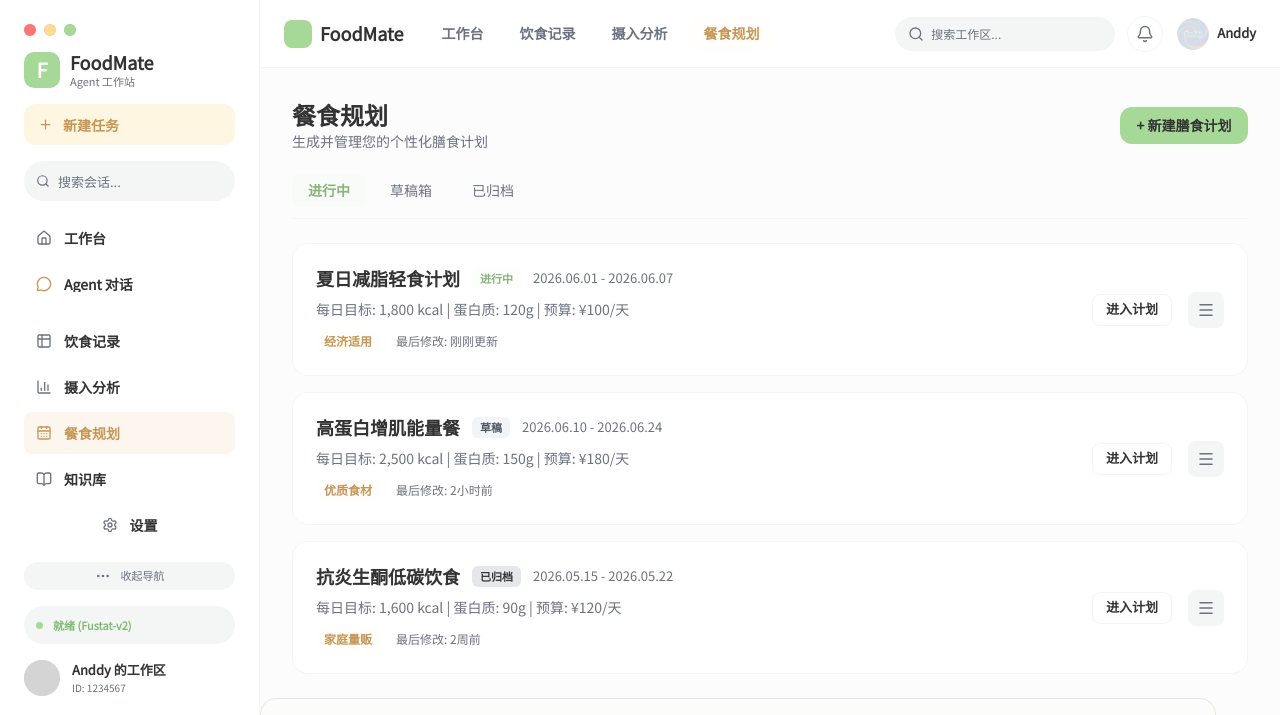
PlanningPage › keeps plan list filters and the wizard progression aligned
The image size is (1280, 715).
Expected: the heading "夏日减脂轻食计划" is shown, left=316, top=267, right=460, bottom=289
Expected: the heading "高蛋白增肌能量餐" is shown, left=316, top=416, right=460, bottom=438
Click the tab "草稿箱".
click(411, 190)  # box left=374, top=174, right=448, bottom=207
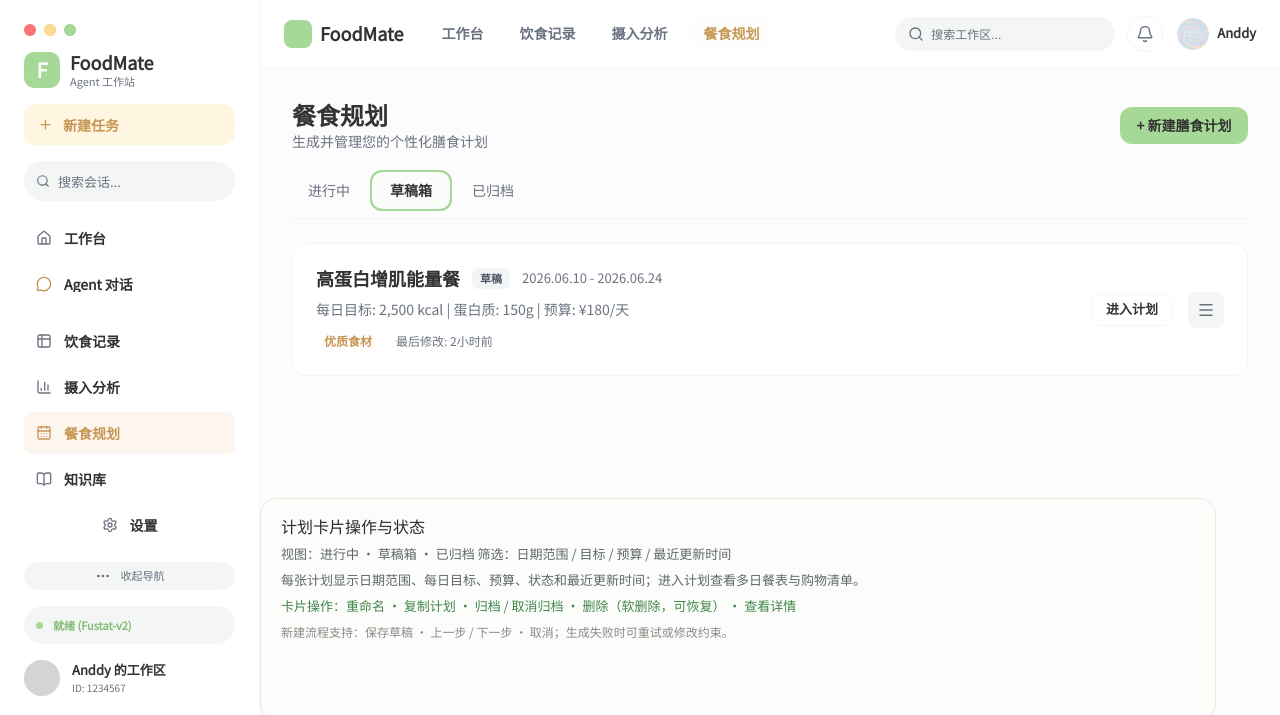
Expected: the heading "高蛋白增肌能量餐" is shown, left=316, top=267, right=460, bottom=289
Now the heading "夏日减脂轻食计划" is gone
Click the tab "进行中".
click(329, 190)  # box left=292, top=174, right=366, bottom=207
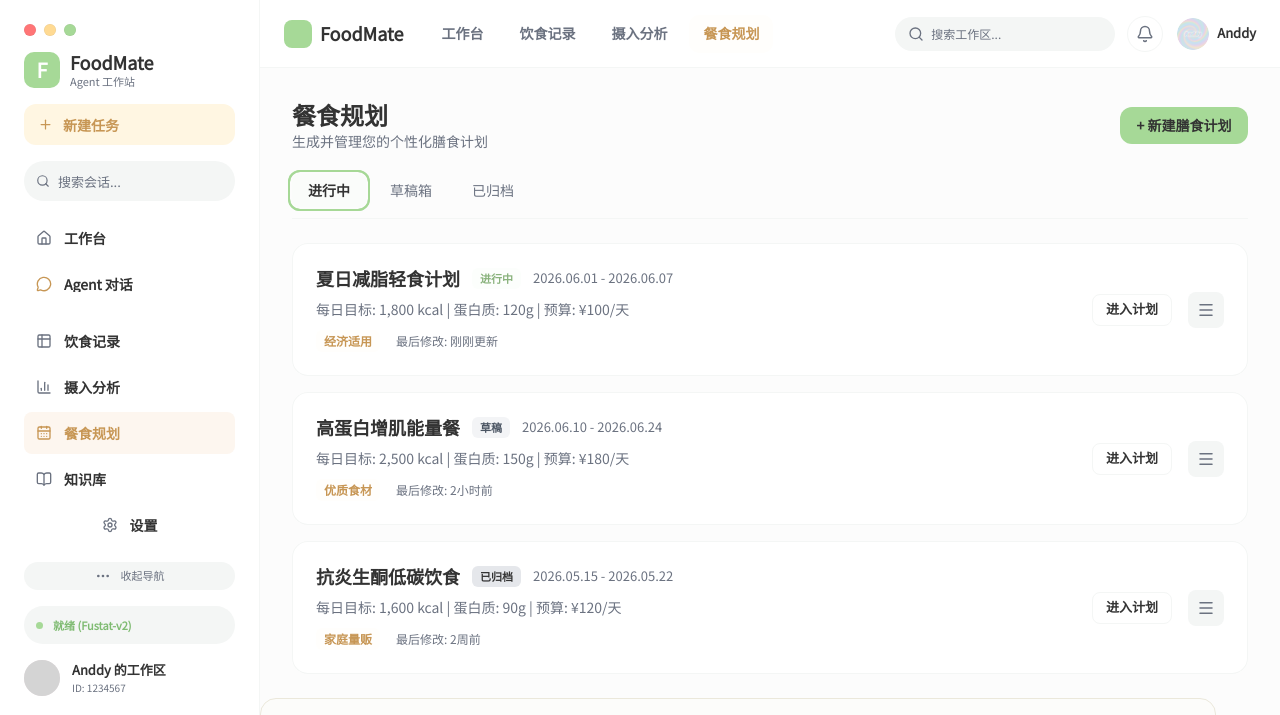
Click the button "进入计划" in the row of "预算: ¥100/天".
click(1132, 310)  # box left=1092, top=294, right=1172, bottom=326
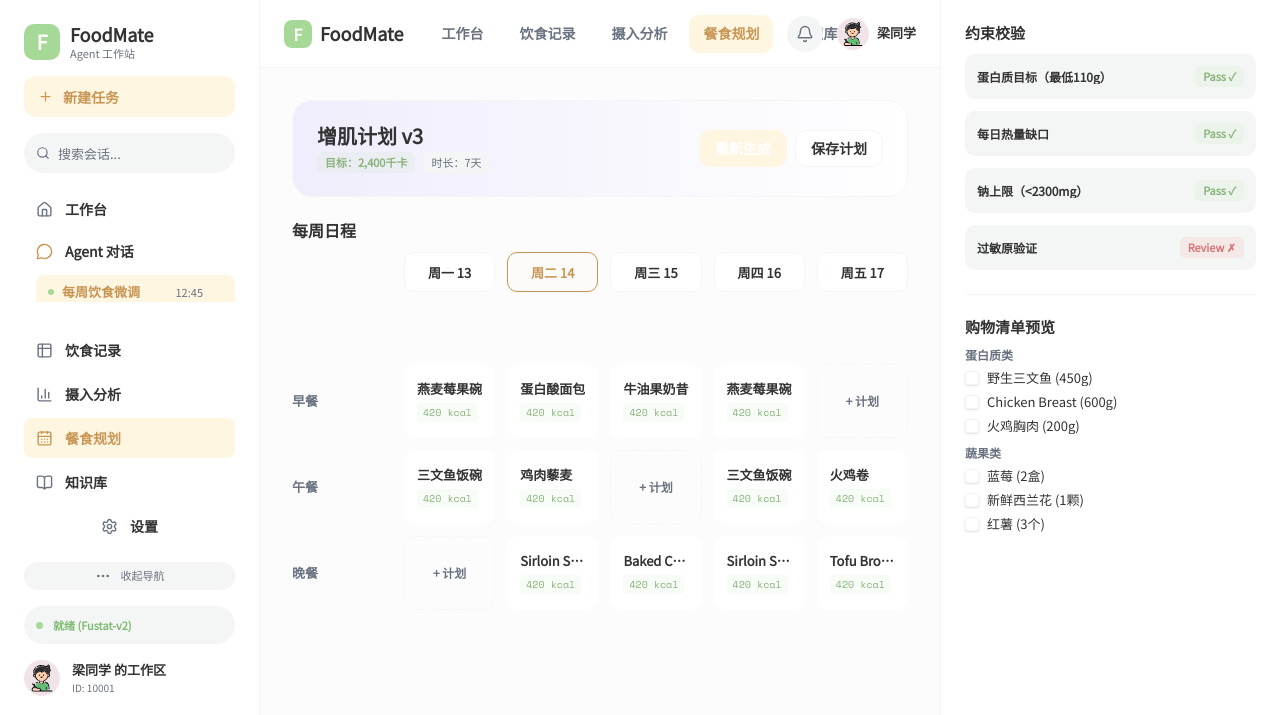
Now the heading "增肌计划 v3" is shown, box left=317, top=121, right=423, bottom=150
